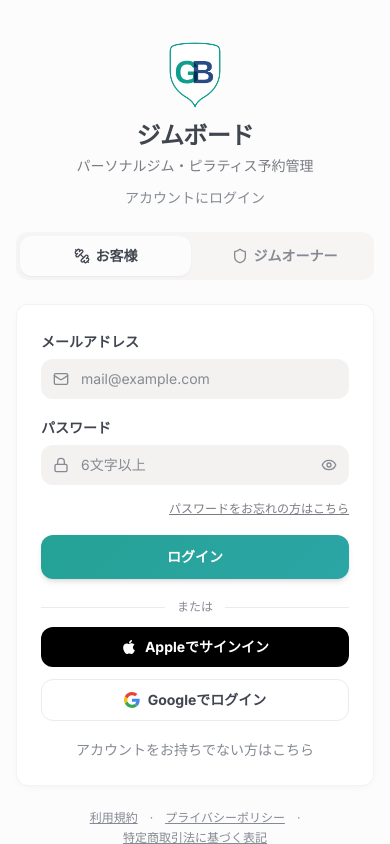
メール未確認のままログインを試したとき › 同じ骨格のパネルを、より正確な文言で出す（同じ壁を2枚続けて踏ませない）
Type "tester@example.com" into the field labelled "メールアドレス" at (195, 379), box [41,359,349,399]
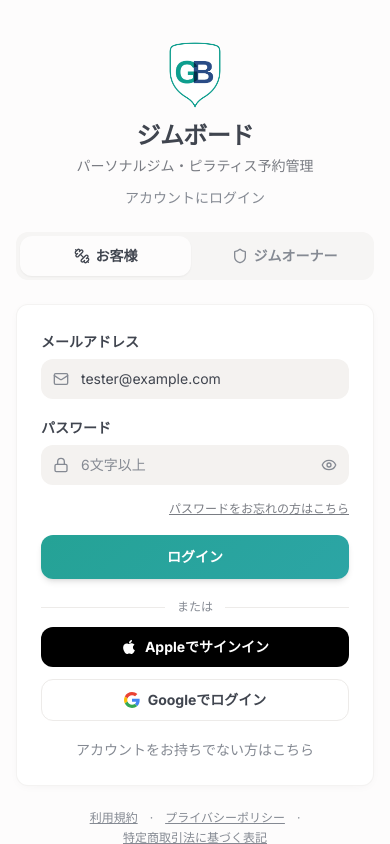
Type "abcdef12" into the password field labelled "パスワード" at (195, 465), box [41,445,349,485]
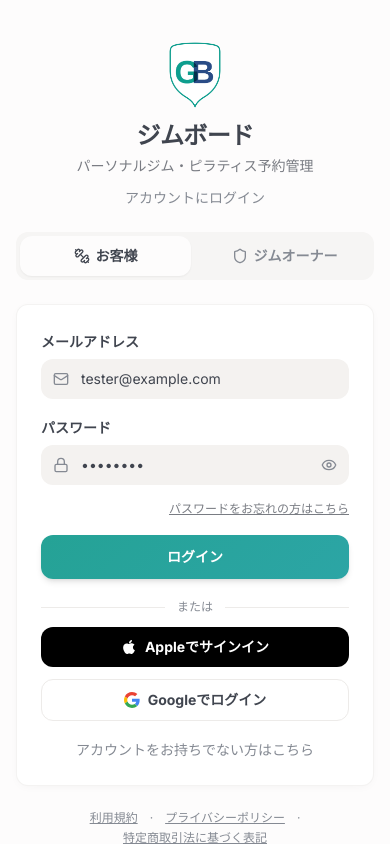
Click the button "ログイン" at (195, 557), box [41,535,349,579]
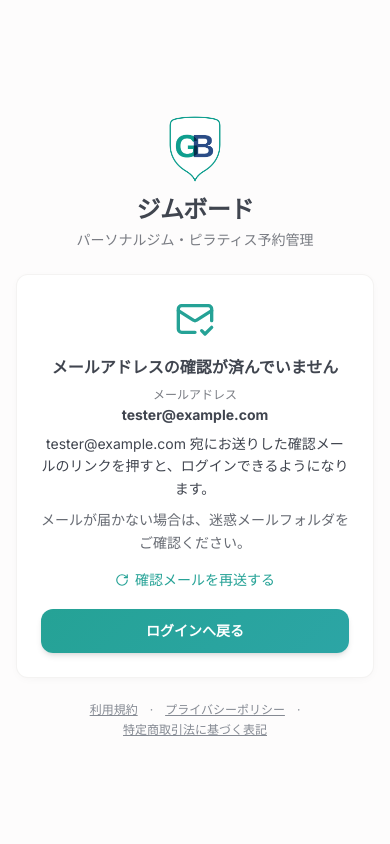
expect the heading "メールアドレスの確認が済んでいません" is shown: met, box [41,355,349,379]
expect the text "tester@example.com" is shown: met, box [122,406,268,423]
expect the button "確認メールを再送する" is shown: met, box [115,570,275,590]
